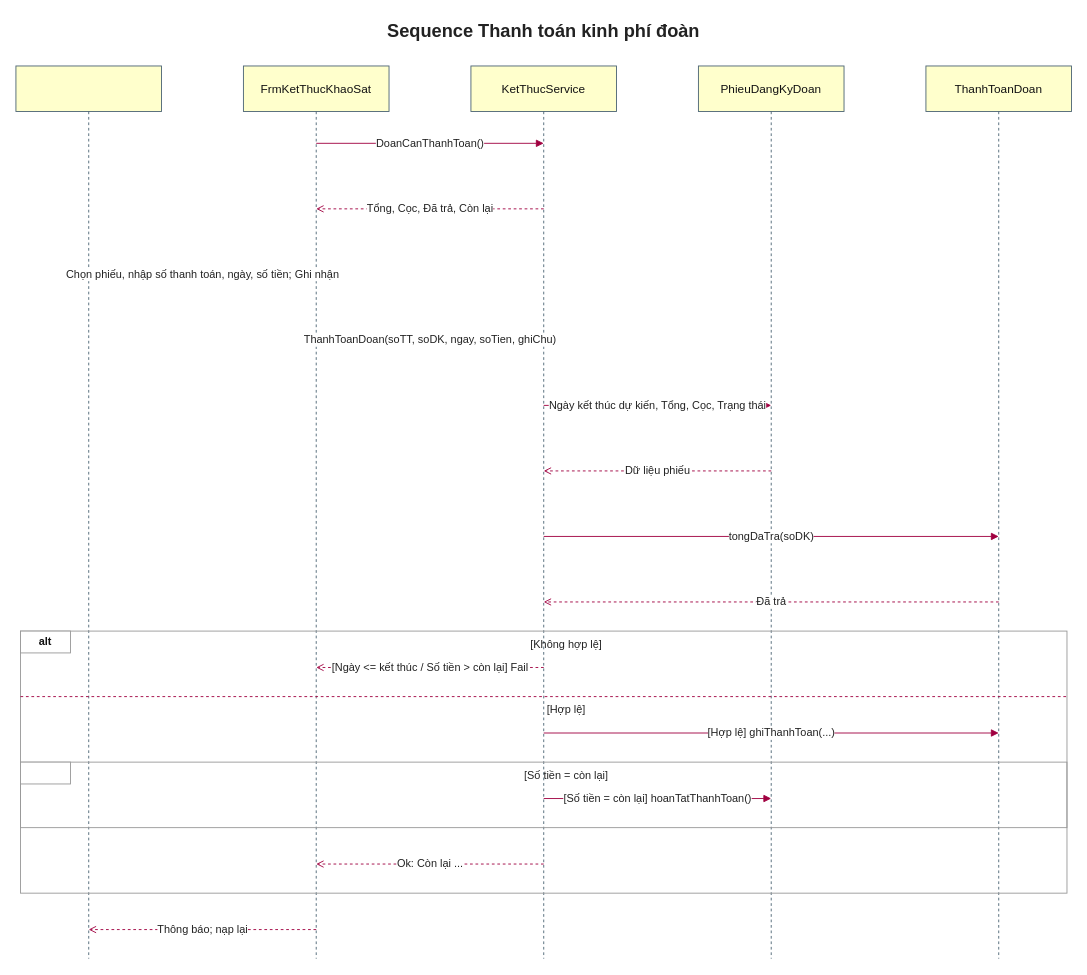
The diagram is 1087 pixels wide and 975 high, and some of its shapes have lost their labels. The box of each missing label's shape, as (x1, y1, x2, y2) in pixels:
Kế toán: (15, 65, 162, 959)
opt: (20, 761, 71, 784)
